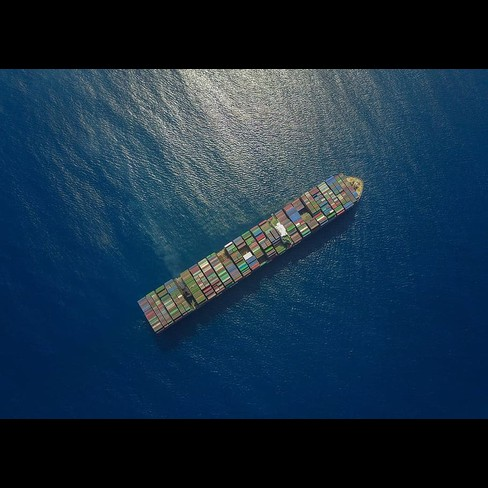boat: (132, 165, 368, 352)
